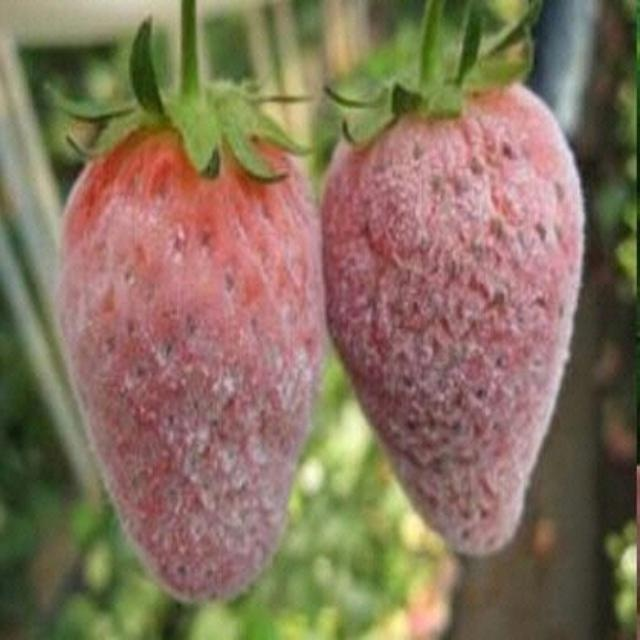Powdery Mildew Fruit: (56, 93, 333, 604), (318, 80, 586, 554)
